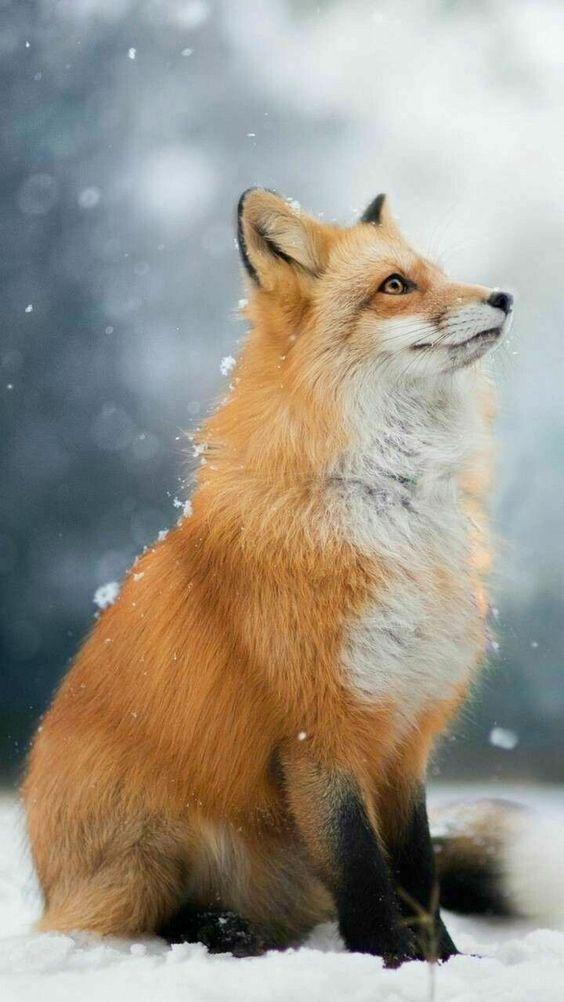fox: (27, 184, 513, 957)
